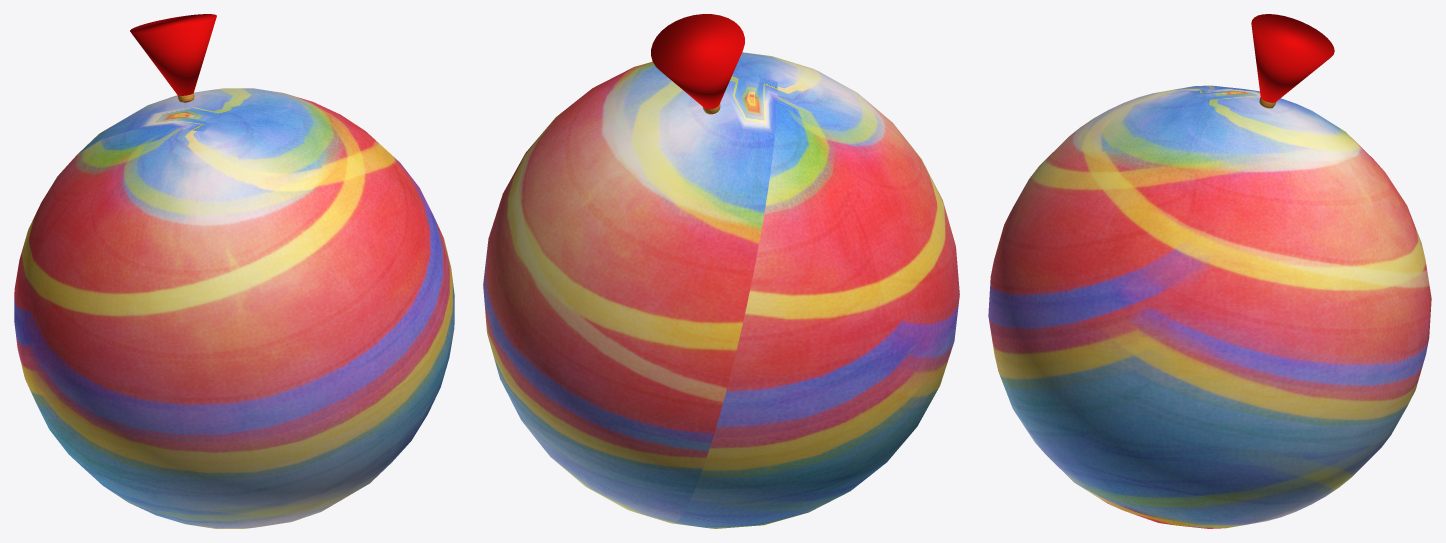
Rendered from 水風船.fbx.
The picture shows the model from 3 angles, left to right: view 1: azimuth 30°, elevation 25°; view 2: azimuth 150°, elevation 25°; view 3: azimuth 270°, elevation 25°; orthographic projection. The views are drawn at different scales.
Parts seen in each view (by area): view 1: たまたま, 上; view 2: たまたま, 上; view 3: たまたま, 上.
Boxes of the visible parts, <box> form: たまたま: <box>14,88,454,528</box>; 上: <box>130,14,216,102</box>; たまたま: <box>483,52,959,528</box>; 上: <box>651,14,744,109</box>; たまたま: <box>988,85,1431,528</box>; 上: <box>1251,14,1334,102</box>.
Size of the model in its own units: 200 by 236 by 200.
